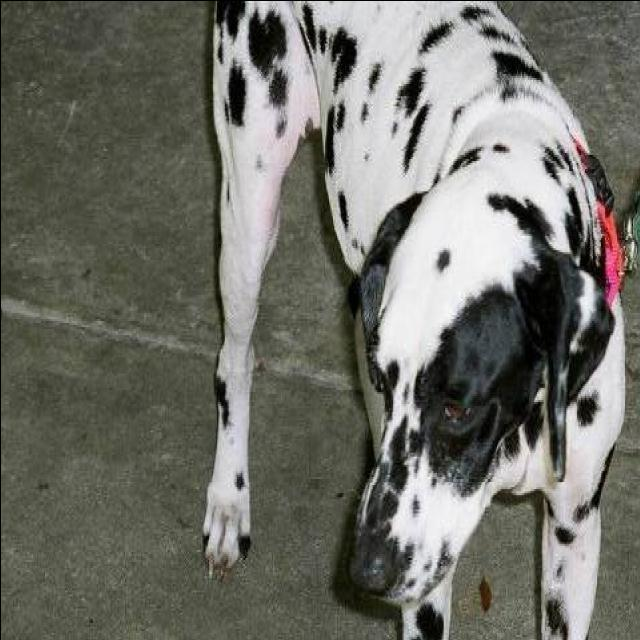dog: (182, 0, 640, 640)
